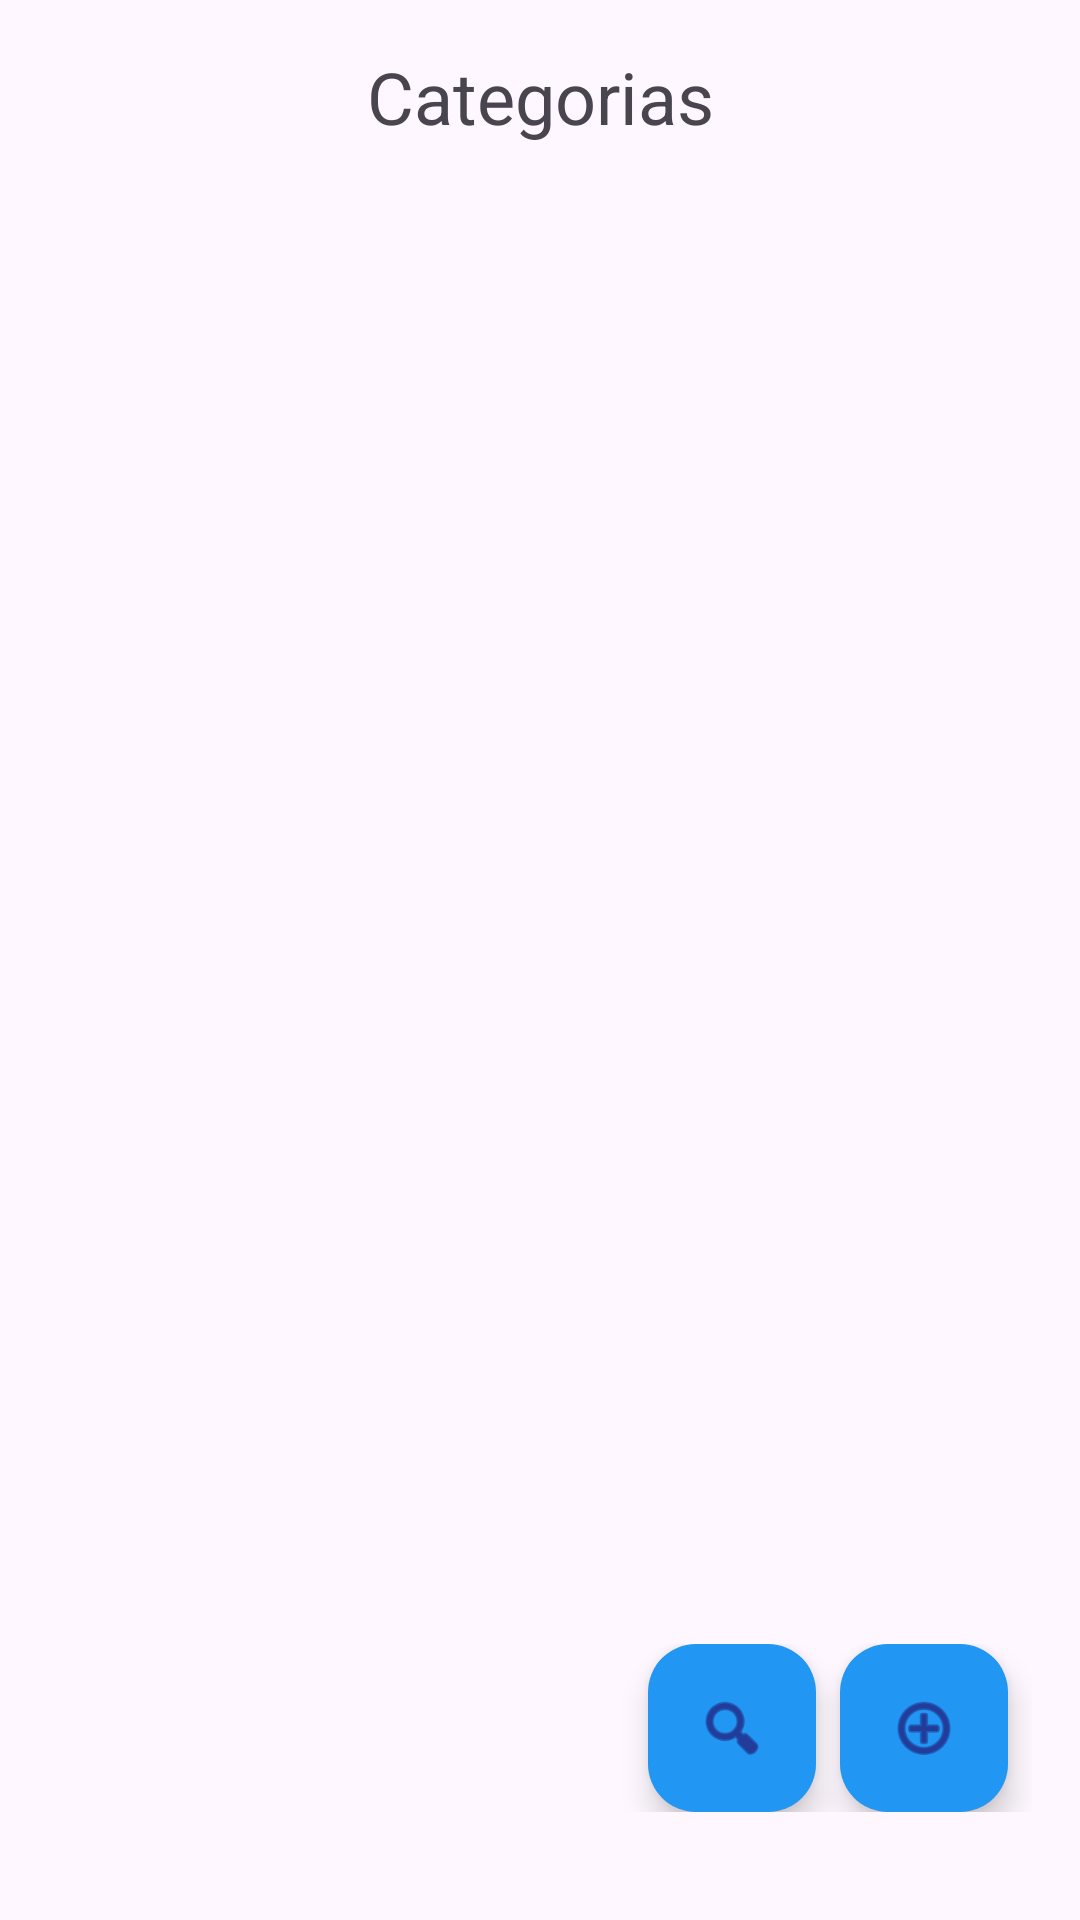

Where to tap for icons on this 1080 × 1920 app screen, as [x,y]:
add: [924,1728]
search: [732,1728]
